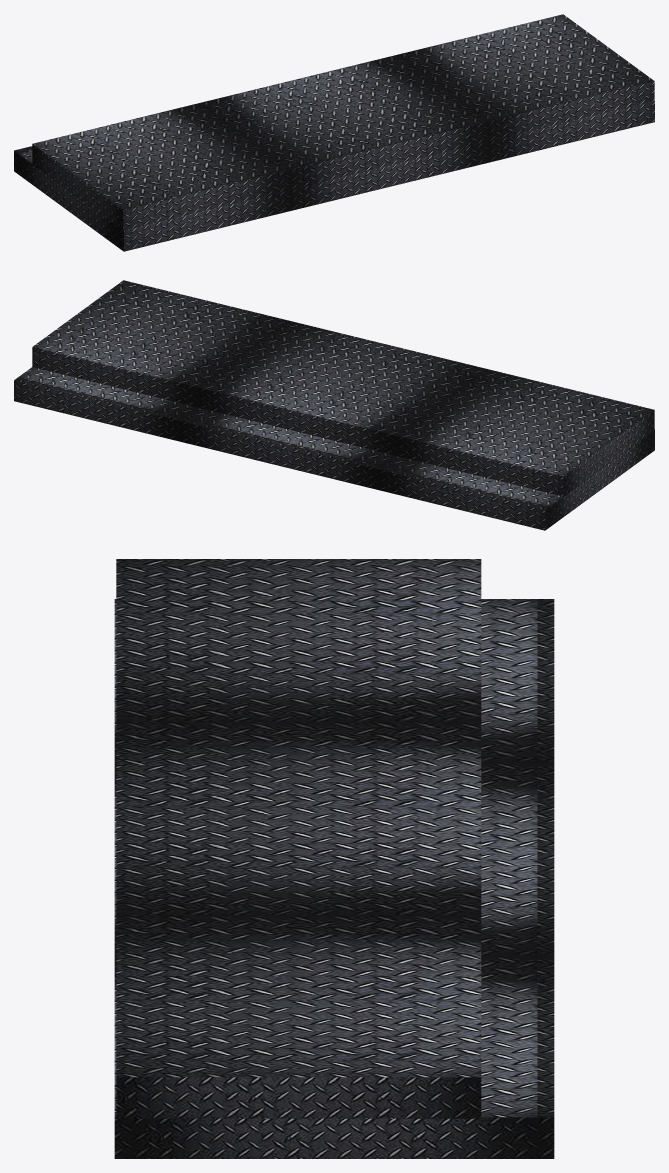
Rendered from ZINA.fbx.
The picture shows the model from 3 angles, top to bottom: view 1: azimuth 30°, elevation 25°; view 2: azimuth 150°, elevation 25°; view 3: azimuth 270°, elevation 25°; orthographic projection. The views are drawn at different scales.
Parts seen in each view (by area): view 1: Box007, Box008; view 2: Box007, Box008; view 3: Box007, Box008.
Part boxes in pixels (bbox=[...]): Box007: bbox=[32, 14, 654, 230]; Box008: bbox=[14, 101, 654, 251]; Box007: bbox=[32, 280, 654, 496]; Box008: bbox=[14, 367, 654, 530]; Box007: bbox=[116, 559, 481, 1118]; Box008: bbox=[114, 599, 554, 1158].
Bounding box in the file's own units: 350 × 25.69 × 125.
Materials: 1 (1 with a texture image).
